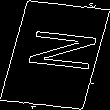N_E: (11, 31, 99, 79)
